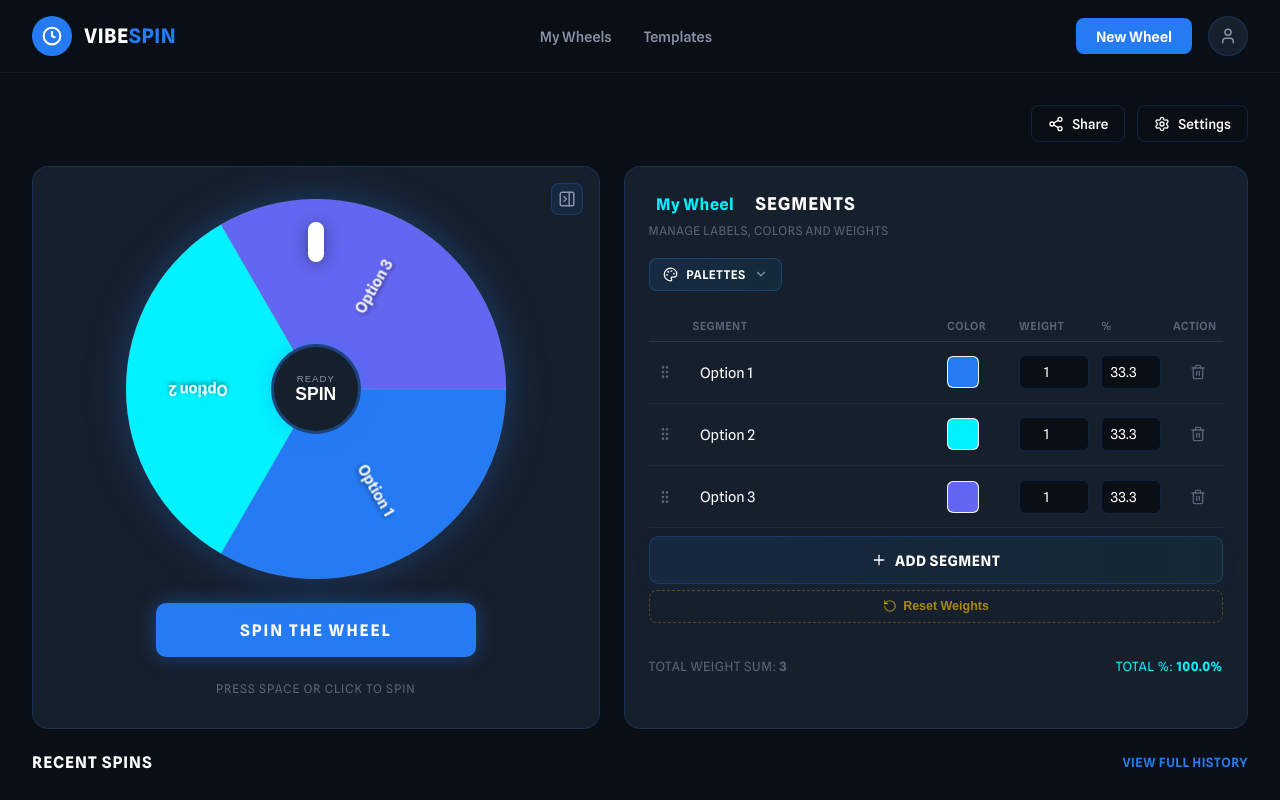
Test case: Settings modal › default spin timing remains unchanged until duration is customized
Click the button "Spin the Wheel" at (316,630), box [156,603,476,657]
Wait 5000 ms
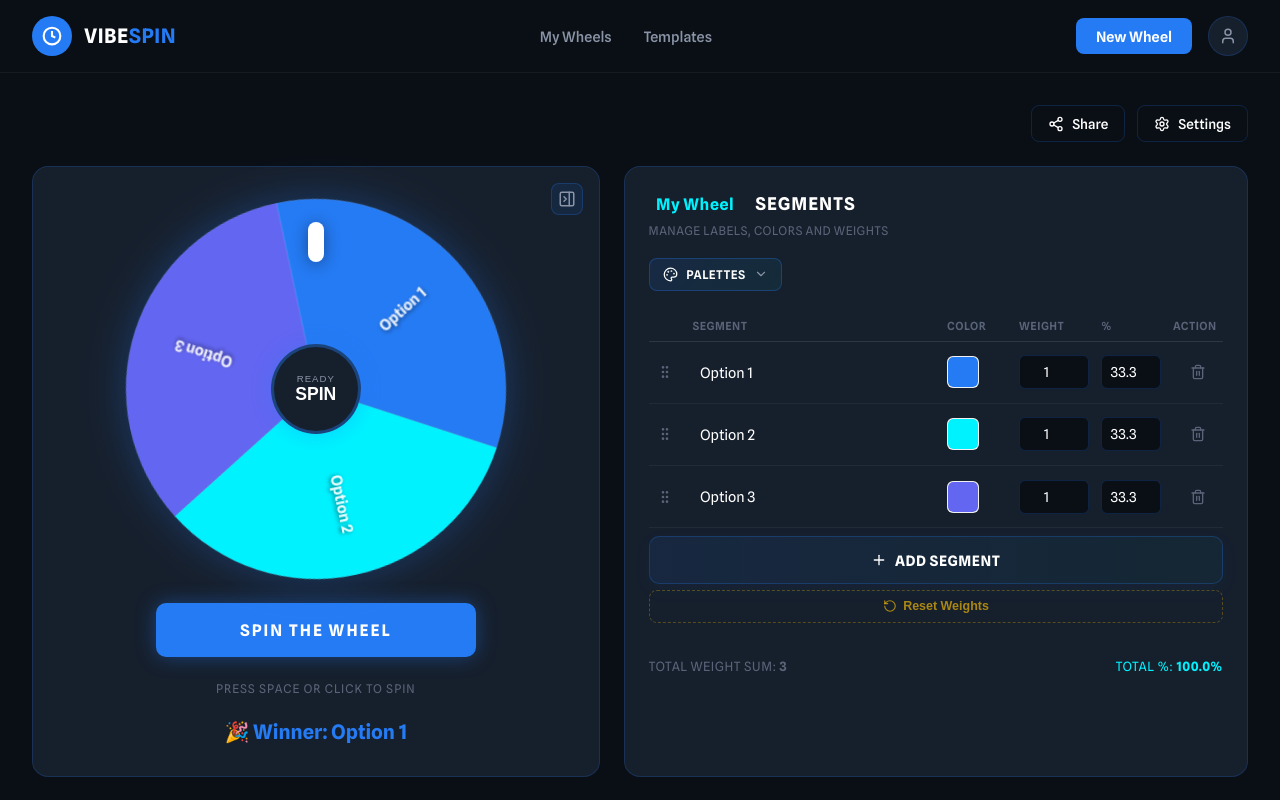
Expected: the message shows "Option 1", [331,720,407,744]
